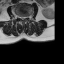CCS_stenosis: (22, 14, 24, 22)
LFS_normal: (26, 13, 28, 20)
LLS_normal: (24, 14, 26, 20)
RFS_normal: (18, 13, 20, 20)
RLS_normal: (20, 14, 22, 21)
